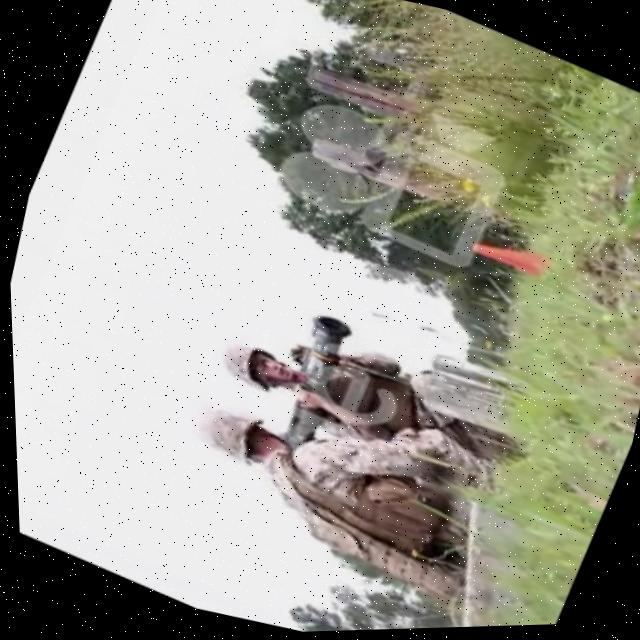rocket: (263, 305, 364, 448)
